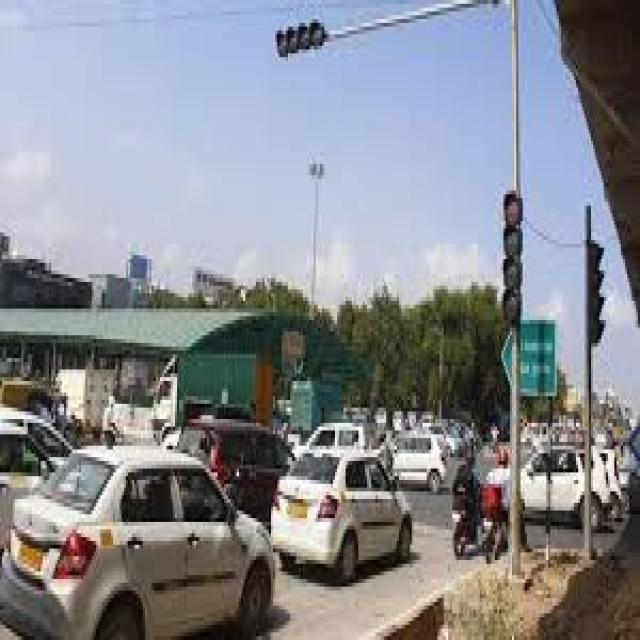traffic signal ahead at: (495, 175, 528, 346), (273, 18, 329, 74)
